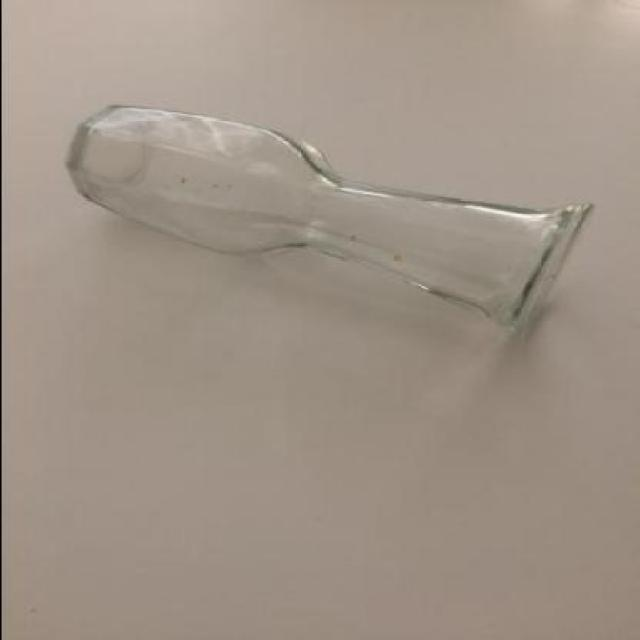GLASS: (63, 101, 595, 332)
